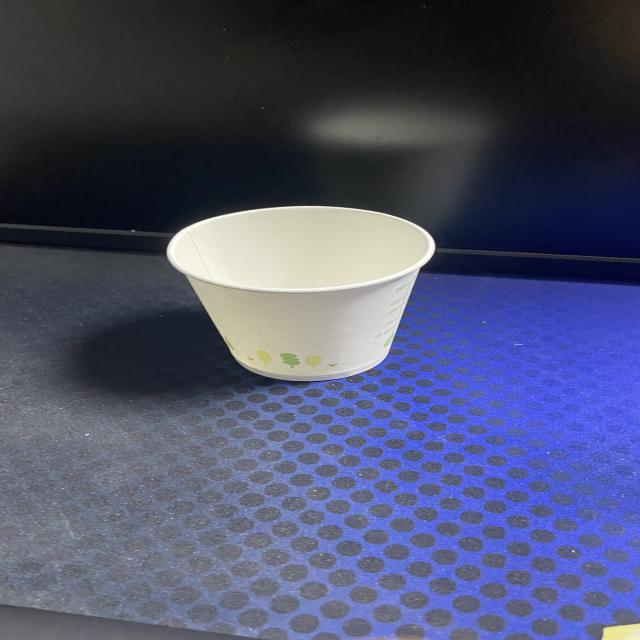trash: (165, 204, 438, 384)
